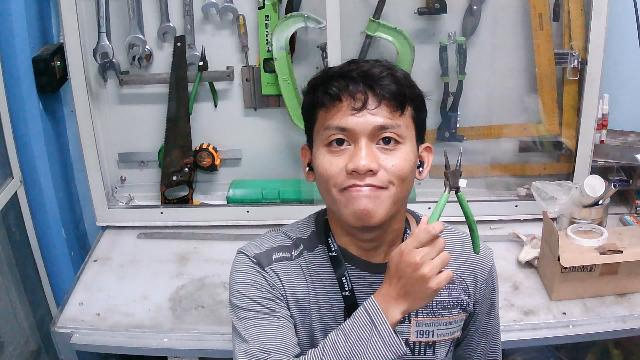tang_cucut_lancip_1: (424, 143, 484, 260)
